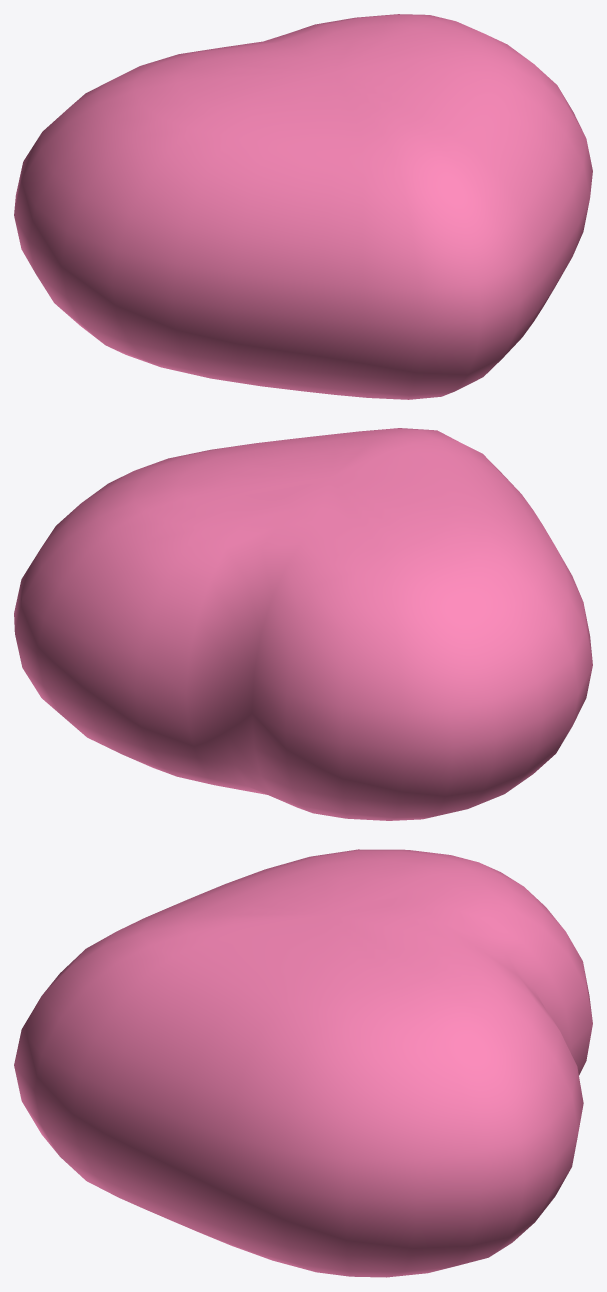
Rendered from Heartcandy_02.fbx.
3 views of the same model, one above another, from view 1: azimuth 30°, elevation 25°; view 2: azimuth 150°, elevation 25°; view 3: azimuth 270°, elevation 25° (orthographic). The views are drawn at different scales.
Parts seen in each view (by area): view 1: Heartcandy_02_LOD0; view 2: Heartcandy_02_LOD0; view 3: Heartcandy_02_LOD0.
Boxes of the visible parts, x1,y1,x2,y2 form: Heartcandy_02_LOD0: (14, 14, 592, 399); Heartcandy_02_LOD0: (14, 428, 592, 820); Heartcandy_02_LOD0: (14, 849, 592, 1277).
Size of what is drawn, in the model's own units: 498 by 261 by 455.
